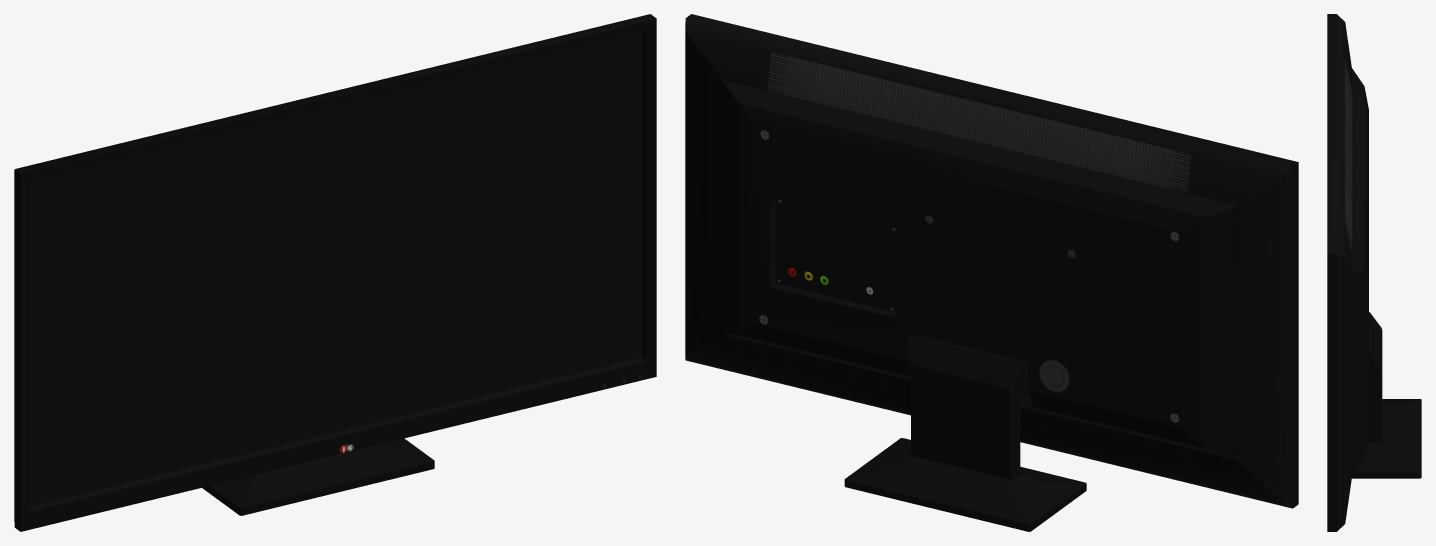
The picture shows the model from 3 angles, left to right: view 1: azimuth 30°, elevation 25°; view 2: azimuth 150°, elevation 25°; view 3: azimuth 270°, elevation 25°; orthographic projection. The views are drawn at different scales.
Visible parts, largest first — view 1: led_tv_phong1_0; view 2: led_tv_phong1_0; view 3: led_tv_phong1_0.
Part boxes in pixels (x1,y1,x2,y2): led_tv_phong1_0: (14,14,656,531); led_tv_phong1_0: (685,14,1298,531); led_tv_phong1_0: (1327,14,1421,531).
Bounding box in the file's own units: 13 × 7.75 × 2.15.
1 material, 1 textured.
